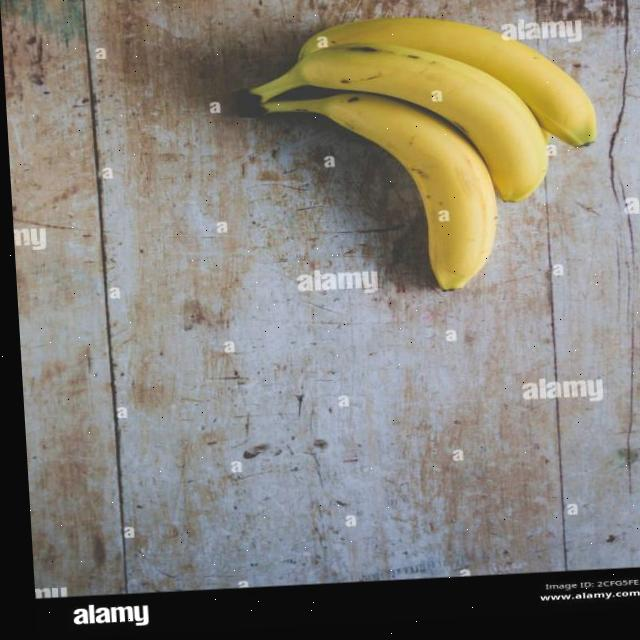banana: (212, 0, 620, 308)
